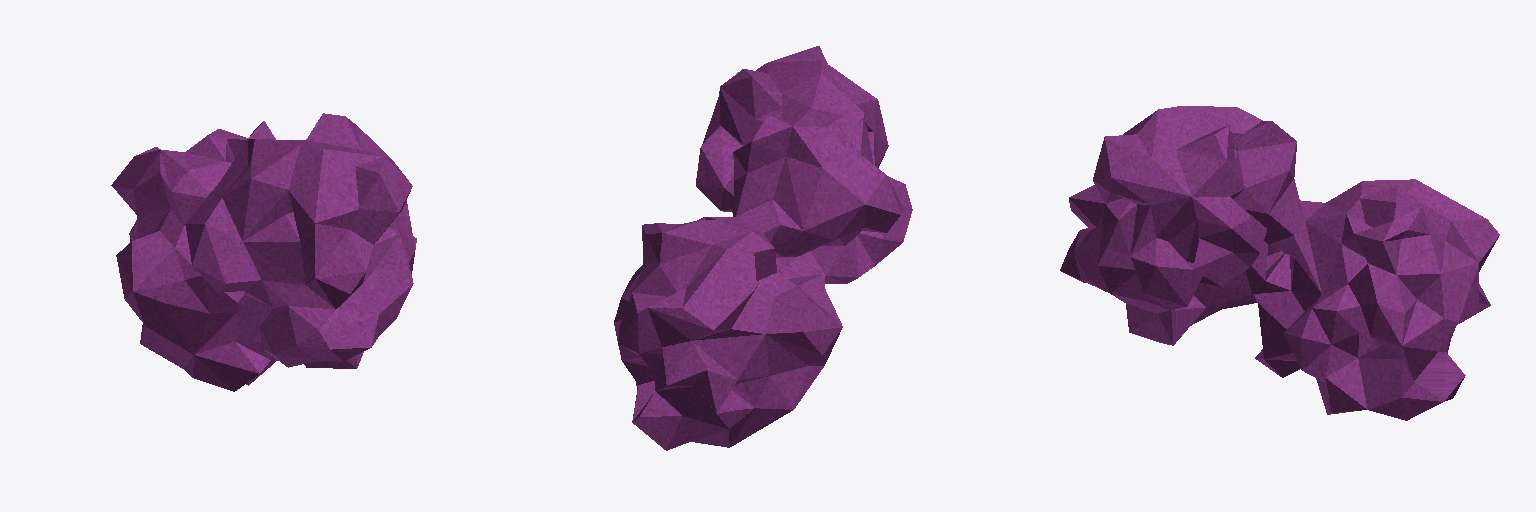
3 views of the same model, side by side, from view 1: azimuth 30°, elevation 25°; view 2: azimuth 150°, elevation 25°; view 3: azimuth 270°, elevation 25° (orthographic).
Parts seen in each view (by area): view 1: CoarseMS_4glb.1; view 2: CoarseMS_4glb.1; view 3: CoarseMS_4glb.1.
Boxes of the visible parts, <box> form: CoarseMS_4glb.1: <box>111,113,416,391</box>; CoarseMS_4glb.1: <box>614,46,912,450</box>; CoarseMS_4glb.1: <box>1060,106,1499,420</box>.
Size of the model in its own units: 42.58 by 62.01 by 81.87.
1 materials, 1 textured.